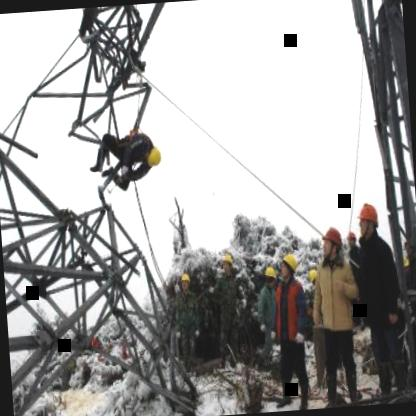helmet: (318, 224, 346, 268), (356, 202, 379, 240), (278, 250, 302, 284), (140, 143, 162, 170), (264, 262, 278, 290), (219, 253, 234, 277), (180, 270, 192, 294)
